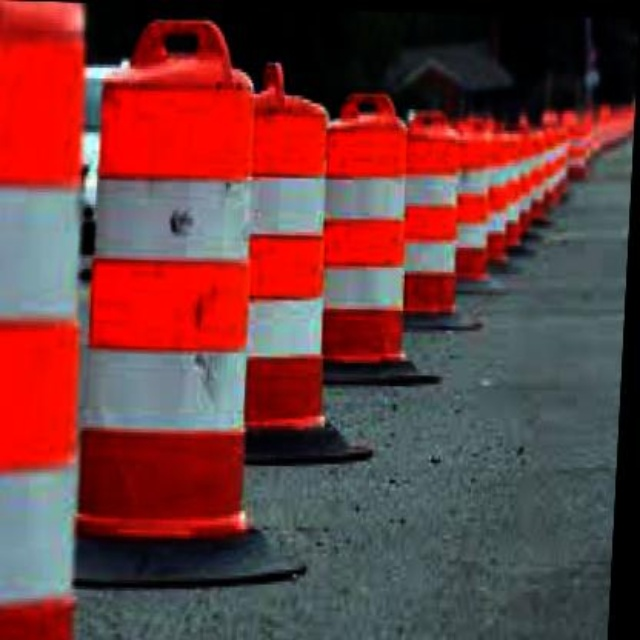obstacle: (84, 21, 277, 550), (313, 86, 431, 380)
